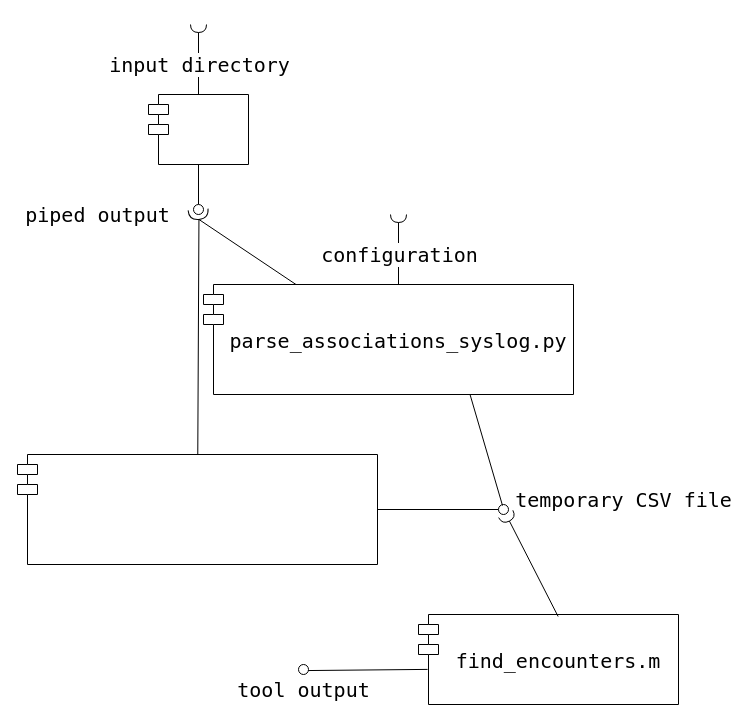
Some shapes in this 756 by 722 pixel diagram are drawn without their labels. Each missing label, with the centre of its shape:
gzip: the point at 198,129
parse_associations_pcap.cpp: the point at 197,509
